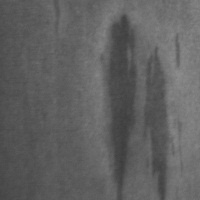inclusion: (96, 12, 141, 199), (140, 41, 174, 199), (50, 1, 66, 44), (171, 31, 185, 70)
